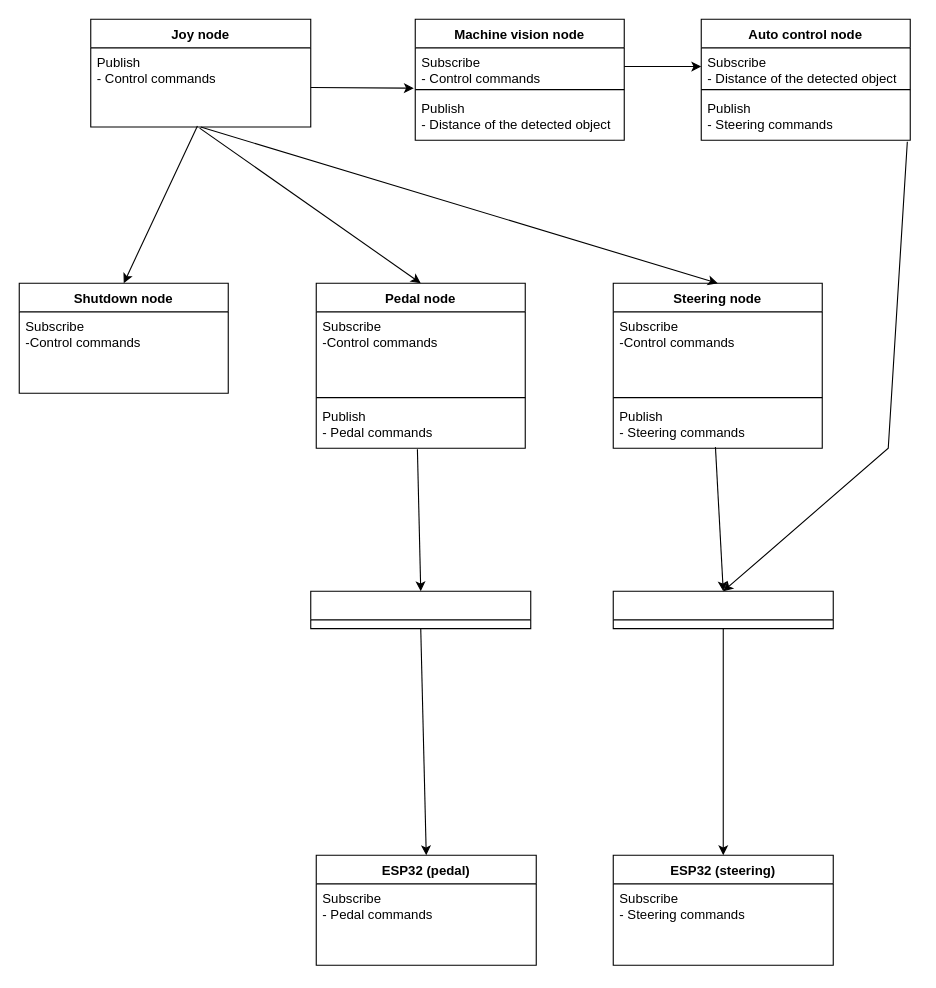
This 936x988 diagram has some shape labels left out. The centre of each missing label's shape, as x and y in pixels:
"Micro ROS agent node (pedal)" goes at (420,609).
"Micro ROS agent node (steering)" goes at (722,609).
